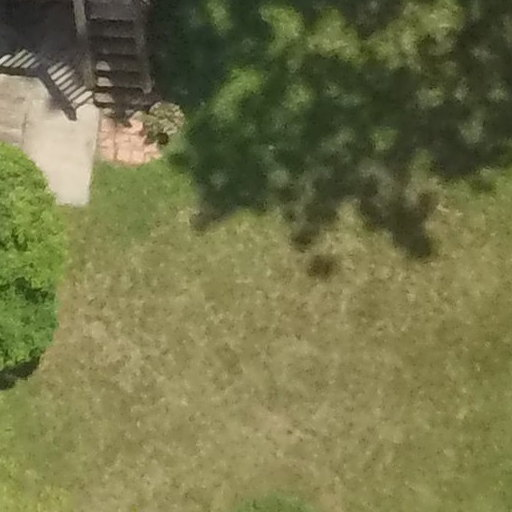container: (155, 128, 173, 148)
flower bed: (140, 93, 196, 143)
flower pot: (158, 132, 173, 146)
